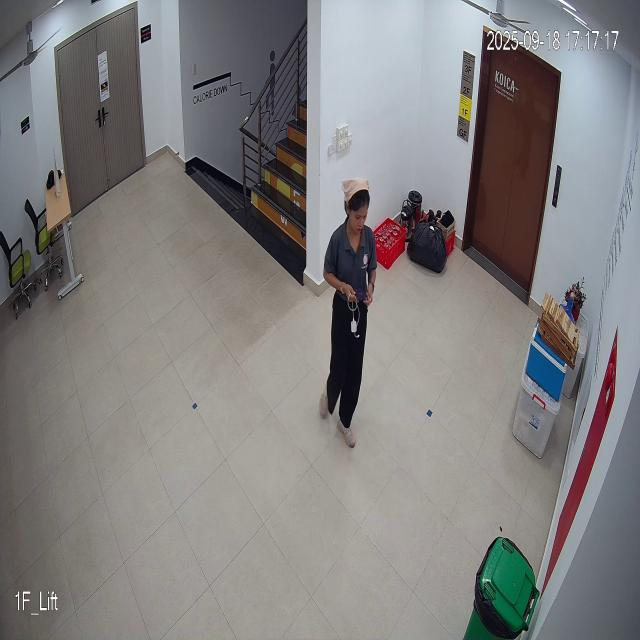face: (341, 174, 372, 239)
